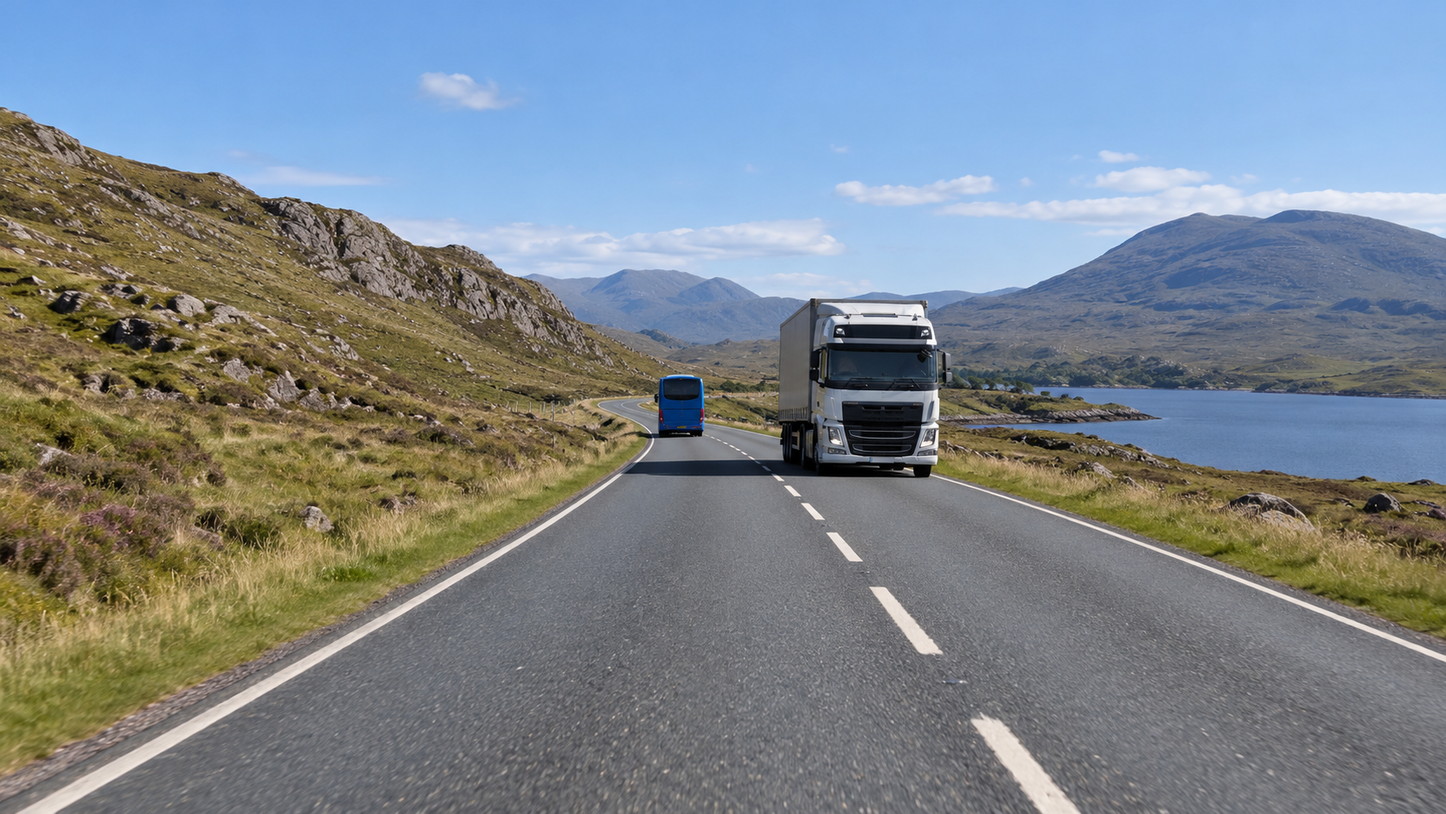bus: (649, 13, 704, 154)
truck: (774, 12, 912, 160)
